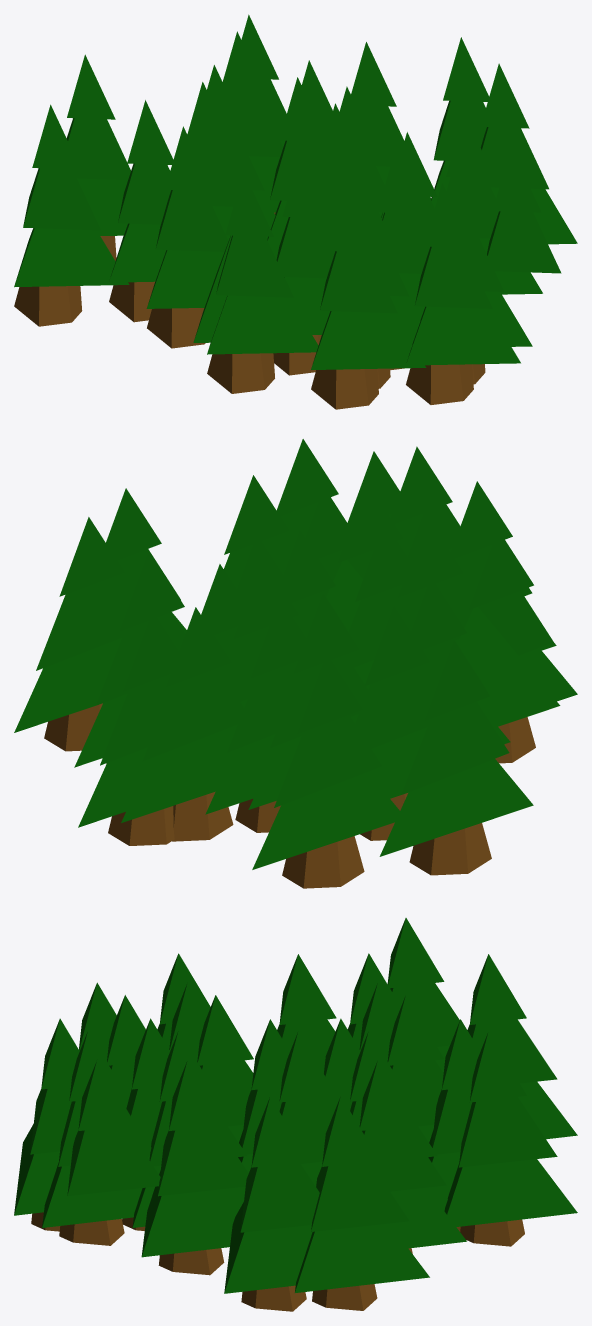
The model's file is Forest.fbx.
3 renders of one model, top to bottom at view 1: azimuth 30°, elevation 25°; view 2: azimuth 150°, elevation 25°; view 3: azimuth 270°, elevation 25°, orthographic. The views are drawn at different scales.
Visible parts, largest first — view 1: Cone.092, Cone.012, Cone.018, Cone.097, Cone.093, Cone.096, Cone.019, Cone.013, Cone.010, Cone.011, Cone.073, Cone.025 (+60 smaller); view 2: Cone.018, Cone.024, Cone.090, Cone.029, Cone.025, Cone.019, Cone.028, Cone.040, Cone.041, Cone.022, Cone.052, Cone.046 (+53 smaller); view 3: Cone.041, Cone.047, Cone.071, Cone.073, Cone.065, Cone.040, Cone.070, Cone.046, Cone.064, Cone.037, Cone.078, Cone.036 (+49 smaller).
Boxes of the visible parts, x1,y1,x2,y2 form: Cone.092: (406, 306, 520, 365); Cone.012: (207, 295, 318, 354); Cone.018: (14, 228, 129, 287); Cone.097: (311, 311, 426, 369); Cone.093: (415, 246, 492, 308); Cone.096: (320, 251, 397, 313); Cone.019: (23, 168, 100, 230); Cone.013: (216, 235, 293, 297); Cone.010: (155, 190, 228, 251); Cone.011: (146, 250, 224, 308); Cone.073: (487, 211, 561, 273); Cone.025: (66, 118, 130, 180); Cone.018: (379, 759, 533, 856); Cone.024: (252, 772, 399, 869); Cone.090: (457, 606, 560, 726); Cone.029: (121, 725, 237, 822); Cone.025: (274, 715, 381, 807); Cone.019: (401, 701, 509, 794); Cone.028: (143, 668, 243, 760); Cone.040: (36, 577, 128, 670); Cone.041: (14, 637, 122, 732); Cone.022: (355, 667, 433, 748); Cone.052: (227, 660, 299, 752); Cone.046: (100, 674, 171, 765); Cone.041: (295, 1223, 429, 1292); Cone.047: (444, 1159, 577, 1226); Cone.071: (141, 1171, 244, 1257); Cone.073: (67, 1125, 160, 1196); Cone.065: (224, 1202, 312, 1293); Cone.040: (311, 1161, 409, 1231); Cone.070: (158, 1125, 248, 1196); Cone.046: (458, 1097, 557, 1167); Cone.064: (240, 1162, 319, 1232); Cone.037: (362, 1125, 446, 1191); Cone.078: (42, 1163, 142, 1227); Cone.036: (390, 1187, 466, 1248).
Size of the model in its own units: 242 by 98.86 by 249.
